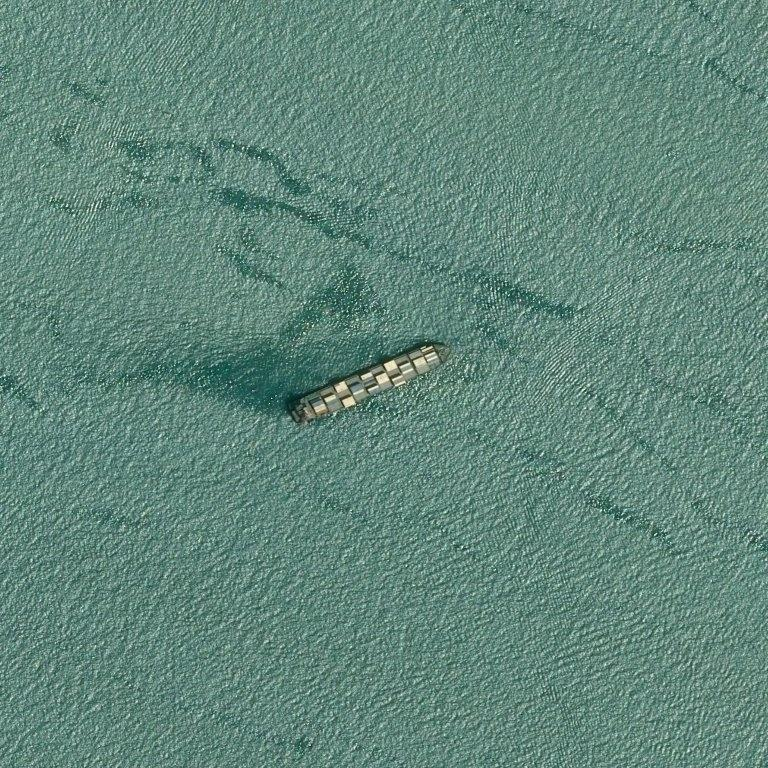ship: (284, 339, 454, 424)
